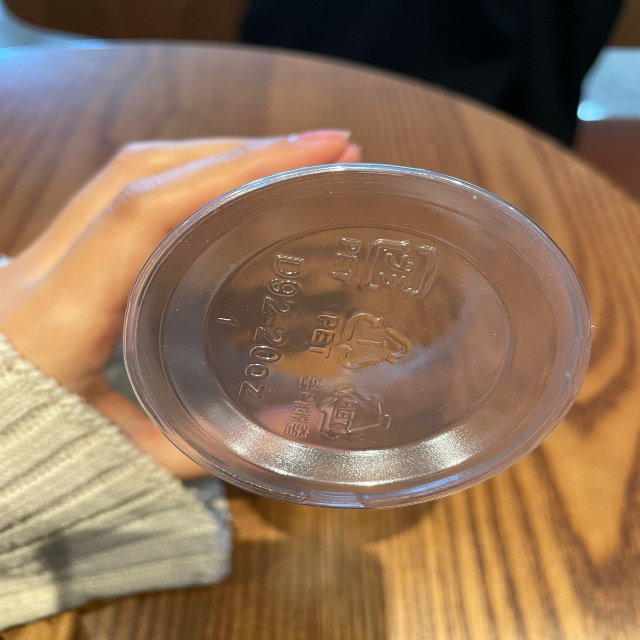pet: (280, 366, 396, 449), (300, 301, 414, 375), (330, 229, 439, 306)
